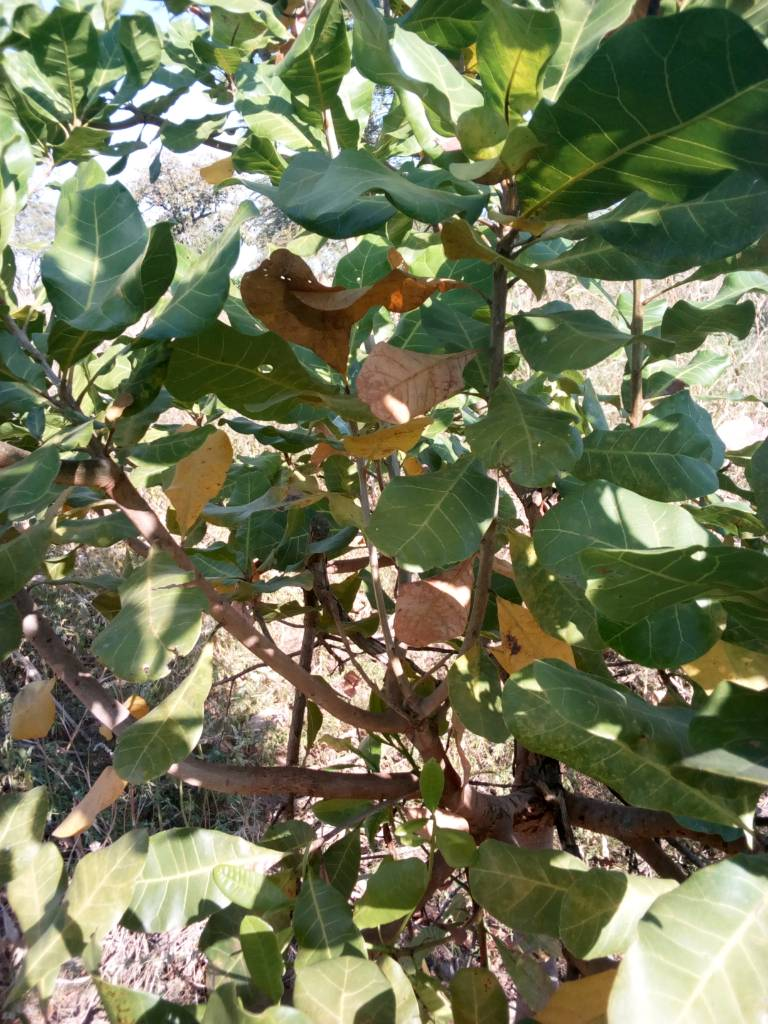Alternariose: (505, 657, 752, 828)
